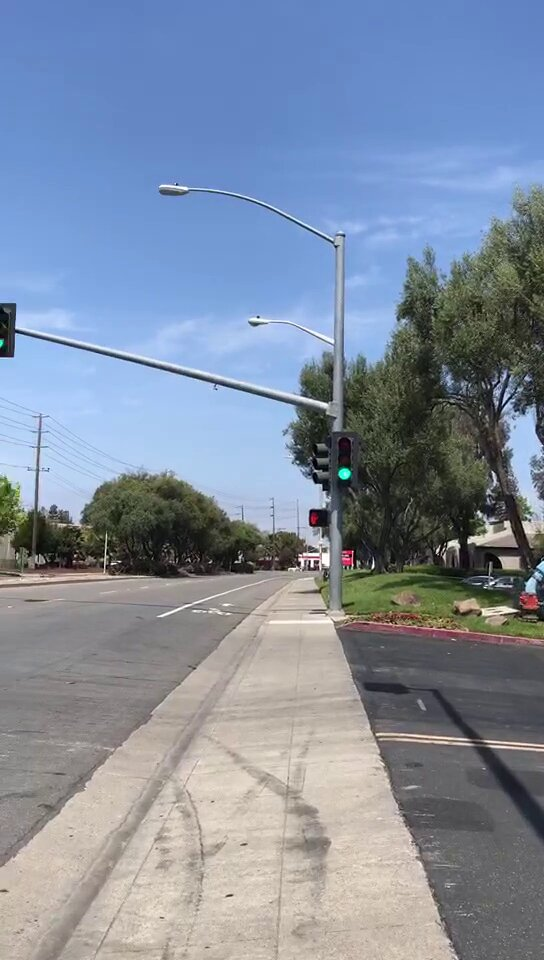green_light: (332, 432, 360, 487)
